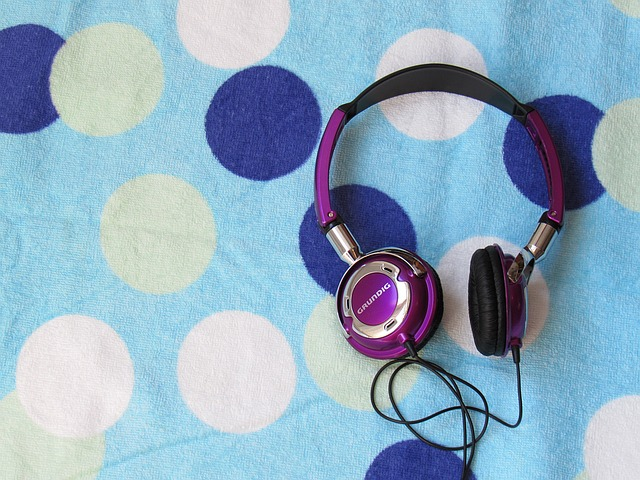headphones: (314, 64, 565, 361)
